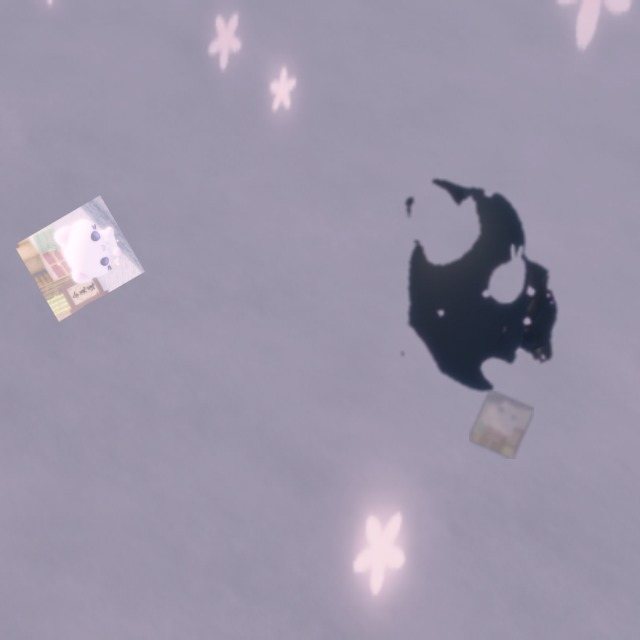urso_branco: (14, 195, 145, 322), (469, 391, 534, 459)
urso_preto: (361, 135, 590, 436)
